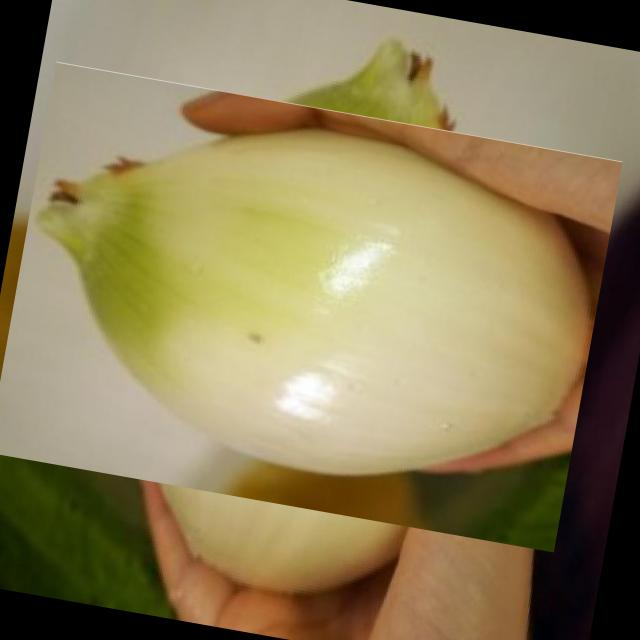Onion: (22, 25, 586, 589)
